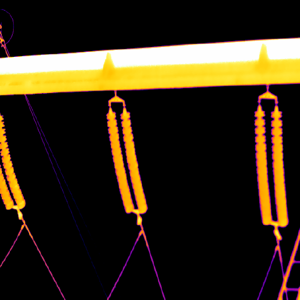insulator: (105, 105, 147, 213), (252, 104, 287, 227), (0, 115, 25, 210)
